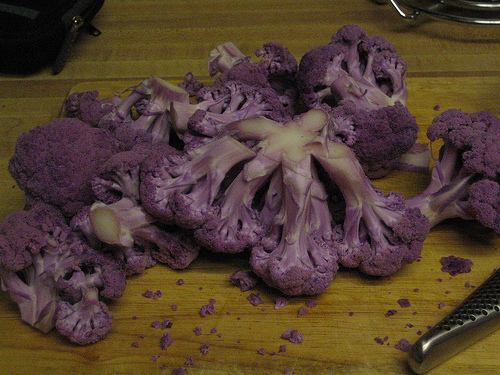cauliflower: (404, 107, 499, 236), (50, 282, 118, 345)
